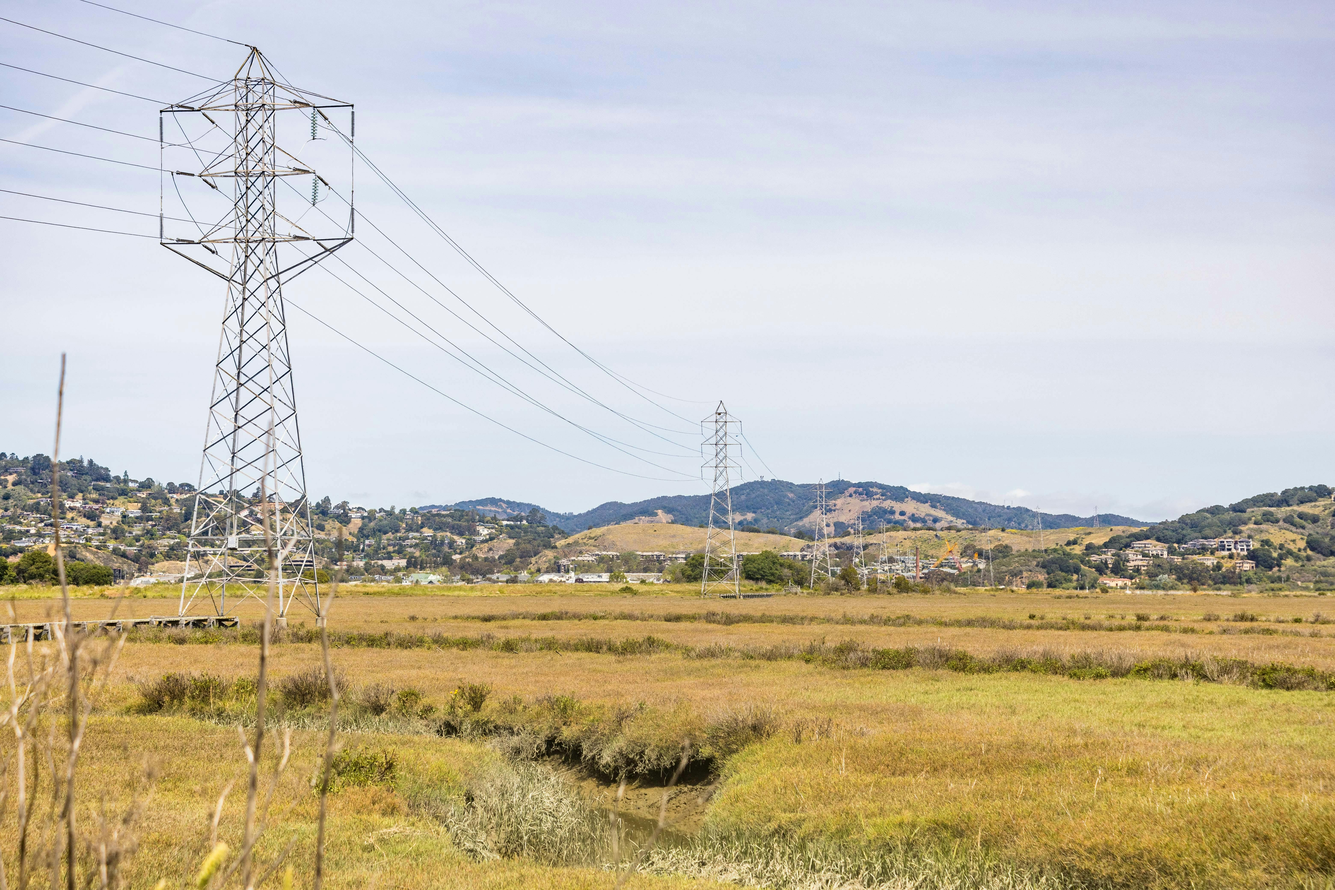insulator: (305, 102, 322, 148), (307, 169, 321, 212)
